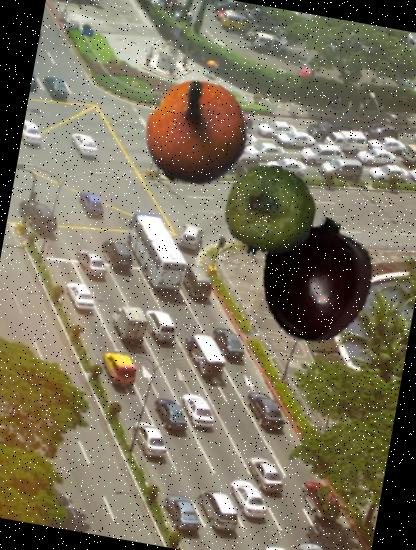Cherry: (243, 209, 385, 351)
Granadilla: (134, 71, 257, 194)
Limes: (216, 158, 324, 265)
